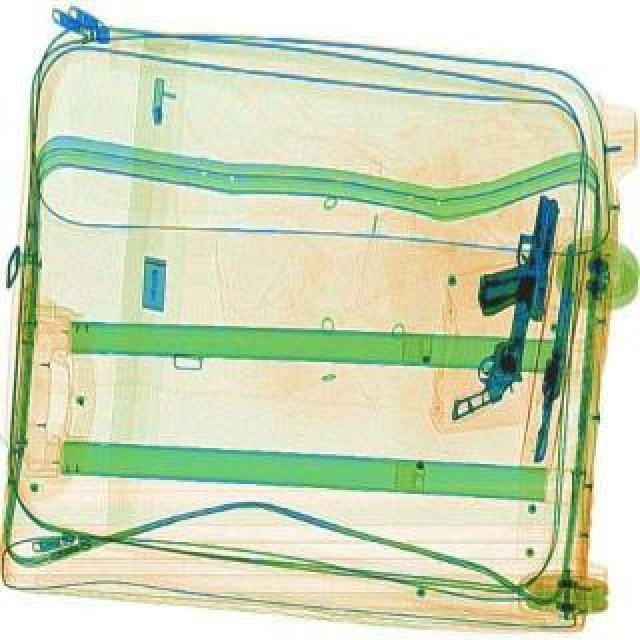gun: (450, 226, 550, 426), (478, 188, 570, 320), (530, 240, 582, 464)
